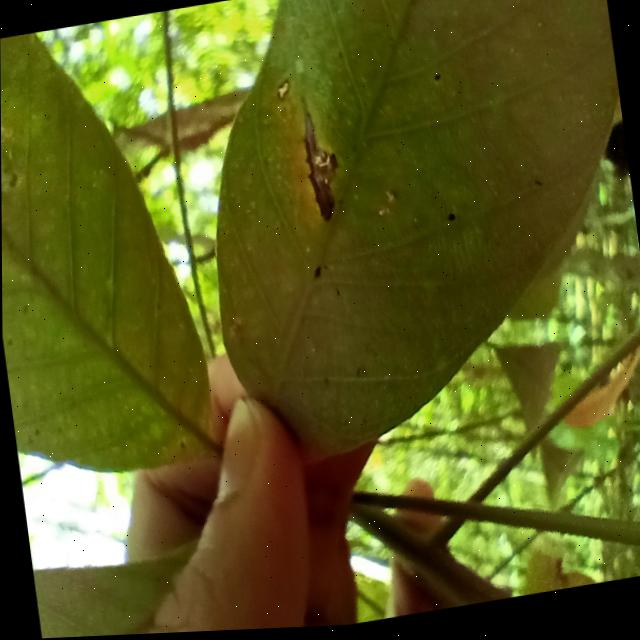Colletotrichum: (445, 214, 454, 225)
Corynespora: (295, 93, 345, 225)
